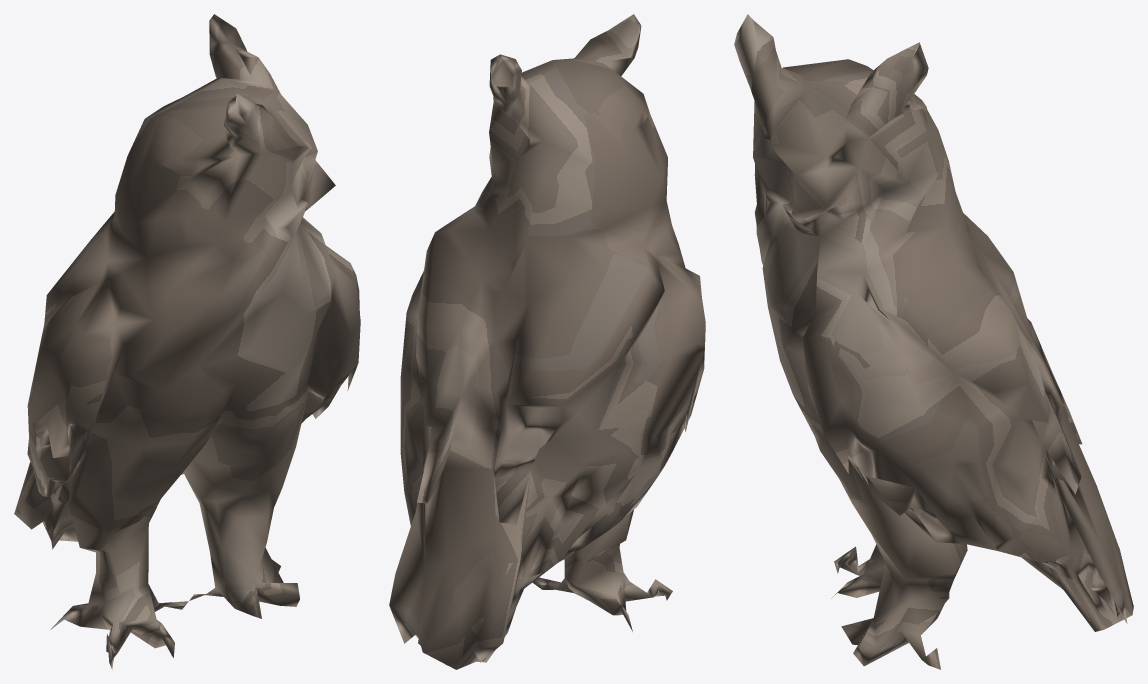
File: sa_owl.glb
3 renders of one model, left to right at view 1: azimuth 30°, elevation 25°; view 2: azimuth 150°, elevation 25°; view 3: azimuth 270°, elevation 25°, orthographic. The views are drawn at different scales.
Visible parts, largest first — view 1: sa_owl; view 2: sa_owl; view 3: sa_owl.
Part boxes in pixels (x1,y1,x2,y2): sa_owl: (14, 14, 360, 669); sa_owl: (389, 14, 705, 669); sa_owl: (734, 14, 1133, 669).
Size of the model in its own units: 0.5214 by 0.9875 by 0.5934.
1 material, 1 textured.
